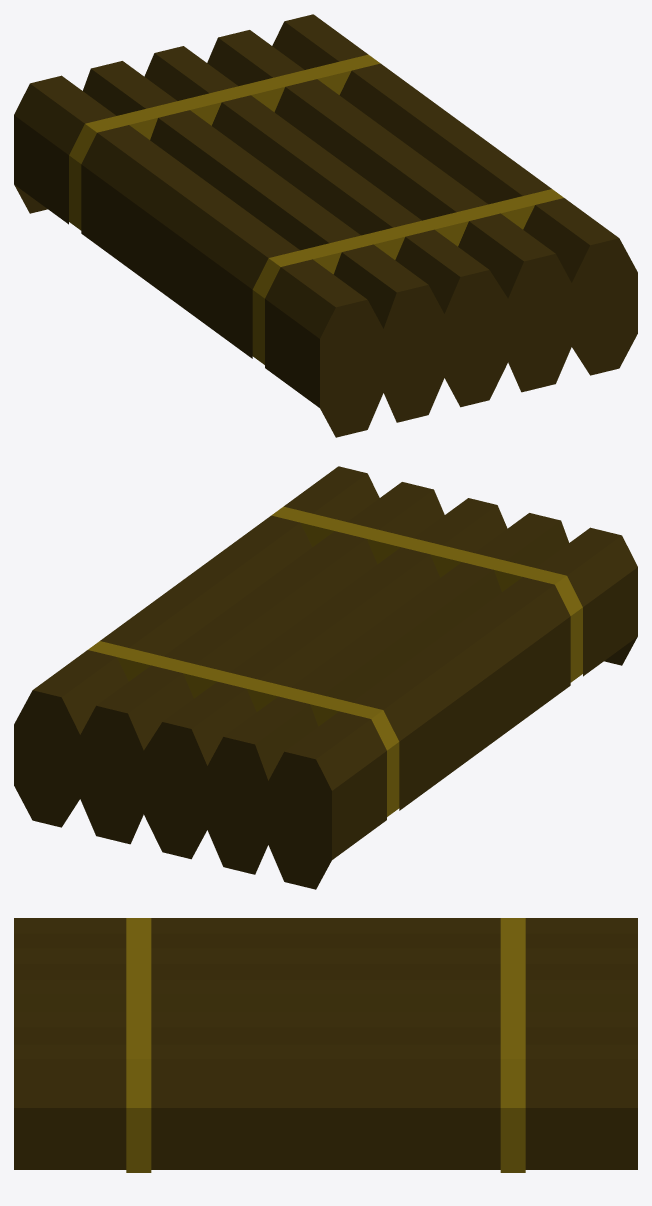
Rendered from obj_raft_0.obj.
The picture shows the model from 3 angles, top to bottom: view 1: azimuth 30°, elevation 25°; view 2: azimuth 150°, elevation 25°; view 3: azimuth 270°, elevation 25°; orthographic projection.
Size of the model in its own units: 0.9375 by 0.3672 by 1.56.
